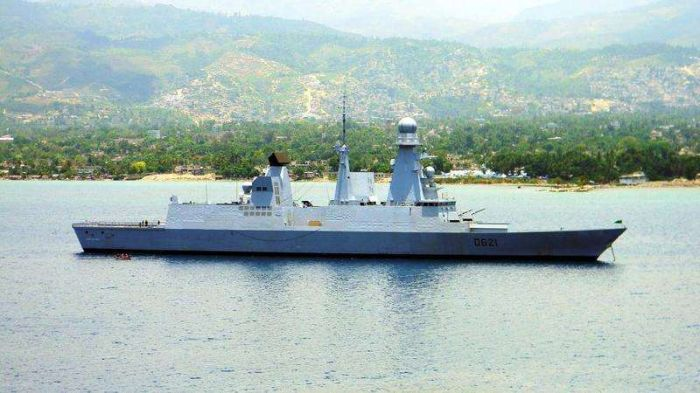warship: (70, 83, 628, 264)
